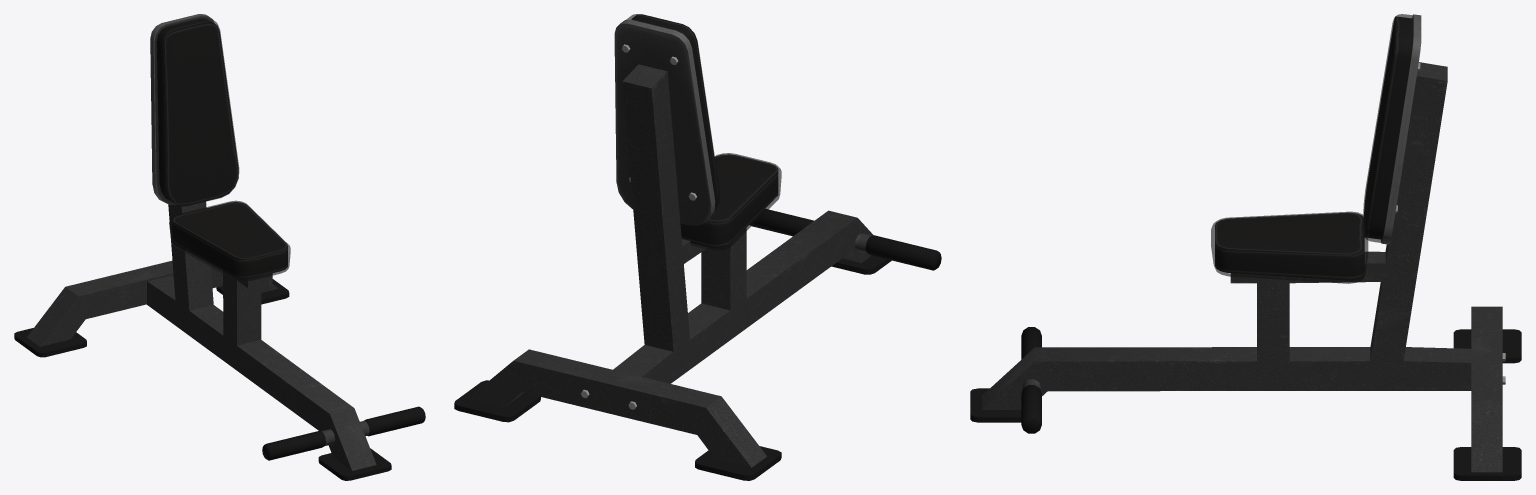
File: gym_bench_chair.glb
The picture shows the model from 3 angles, left to right: view 1: azimuth 30°, elevation 25°; view 2: azimuth 150°, elevation 25°; view 3: azimuth 270°, elevation 25°; orthographic projection. The views are drawn at different scales.
Parts seen in each view (by area): view 1: bench chair, bench chair_cover; view 2: bench chair, bench chair_cover; view 3: bench chair, bench chair_cover.
Part boxes in pixels (x1,y1,x2,y2): bench chair: (14, 14, 425, 480); bench chair_cover: (154, 16, 290, 281); bench chair: (454, 14, 941, 480); bench chair_cover: (626, 14, 781, 250); bench chair: (970, 14, 1521, 480); bench chair_cover: (1211, 14, 1412, 283).
Size of the model in its own units: 0.8196 by 0.9987 by 1.3.
Materials: 2 (1 with a texture image).
